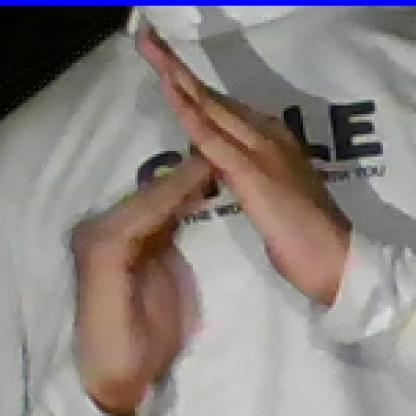Z: (58, 21, 309, 382)
